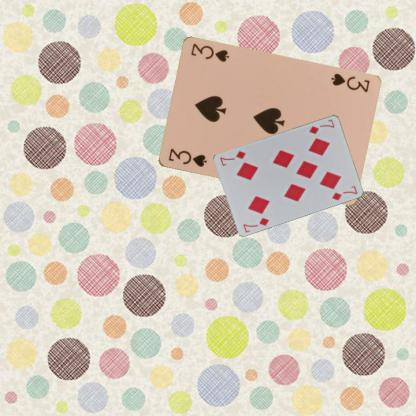3s: (328, 71, 370, 94), (166, 146, 208, 168)
7d: (306, 116, 336, 135), (240, 215, 270, 233)
